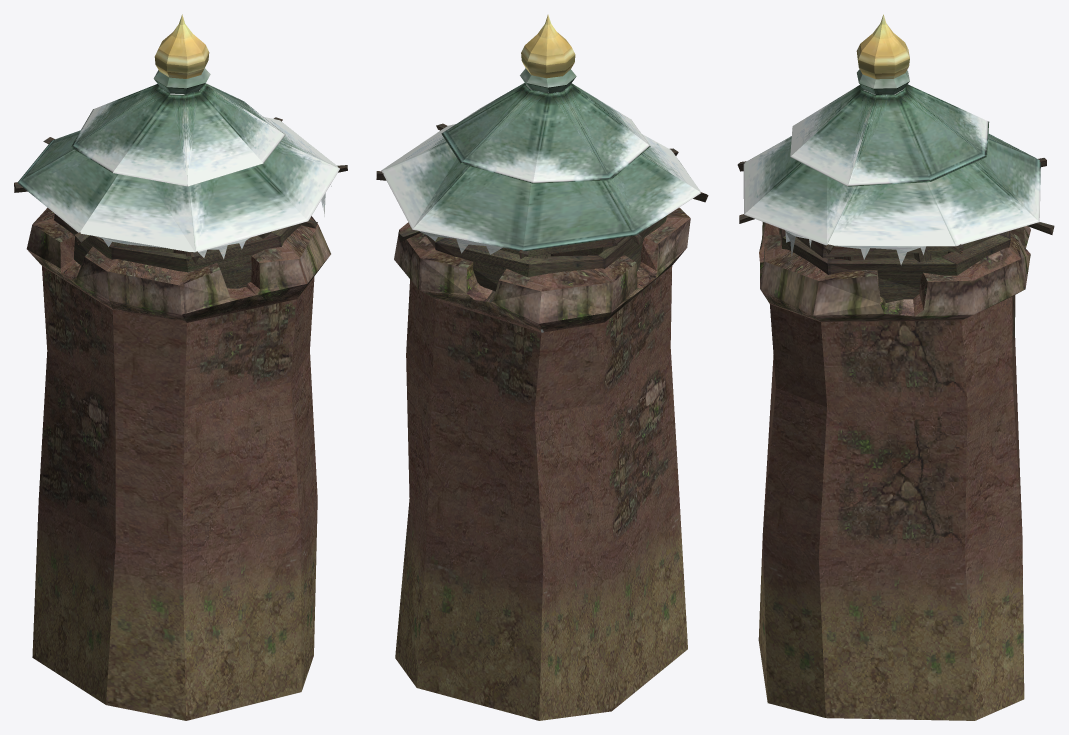
Rendered from C1SMTHSNH.obj.
3 views of the same model, side by side, from view 1: azimuth 30°, elevation 25°; view 2: azimuth 150°, elevation 25°; view 3: azimuth 270°, elevation 25° (orthographic). The views are drawn at different scales.
Parts seen in each view (by area): view 1: Node 0; view 2: Node 0; view 3: Node 0.
Boxes of the visible parts, bbox=[...] form: Node 0: bbox=[14, 14, 347, 720]; Node 0: bbox=[376, 14, 708, 720]; Node 0: bbox=[737, 14, 1054, 720].
Bounding box in the file's own units: 10.36 × 23.61 × 10.29.
